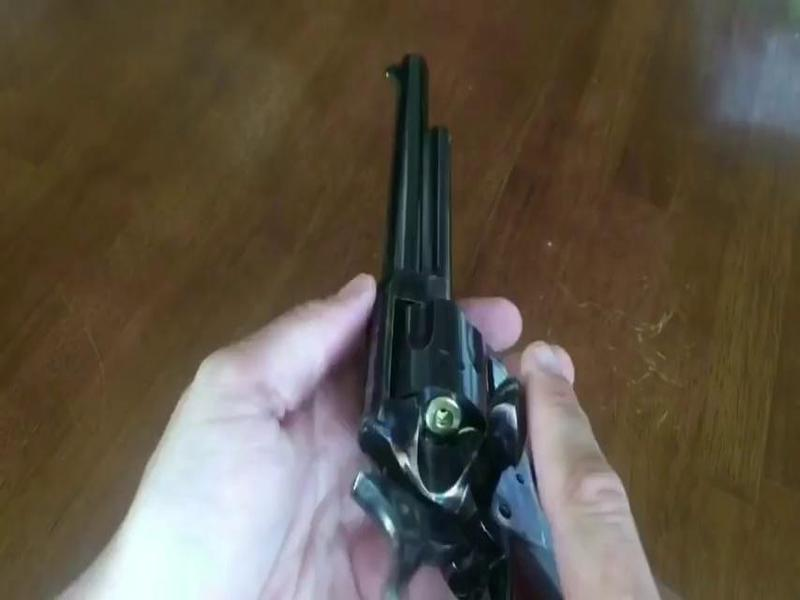Revolver: (346, 15, 578, 600)
